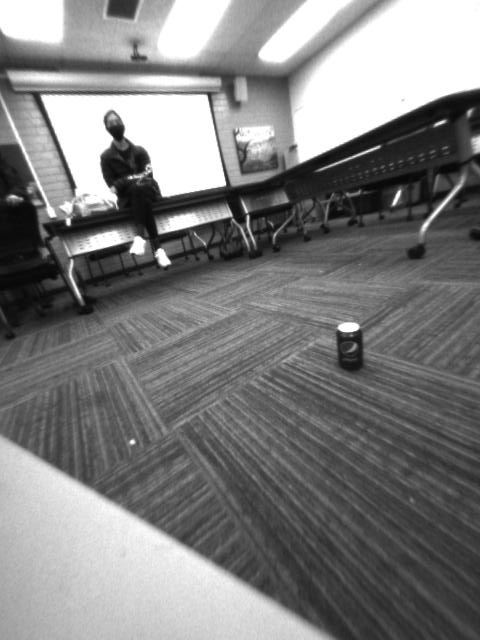can: (335, 321, 367, 372)
